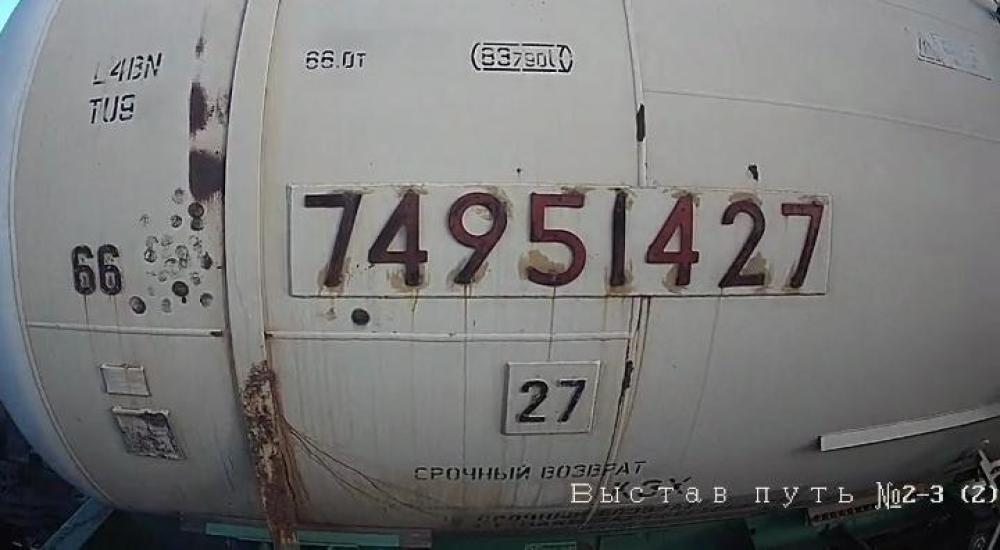Wagon-number: (297, 186, 824, 296)
